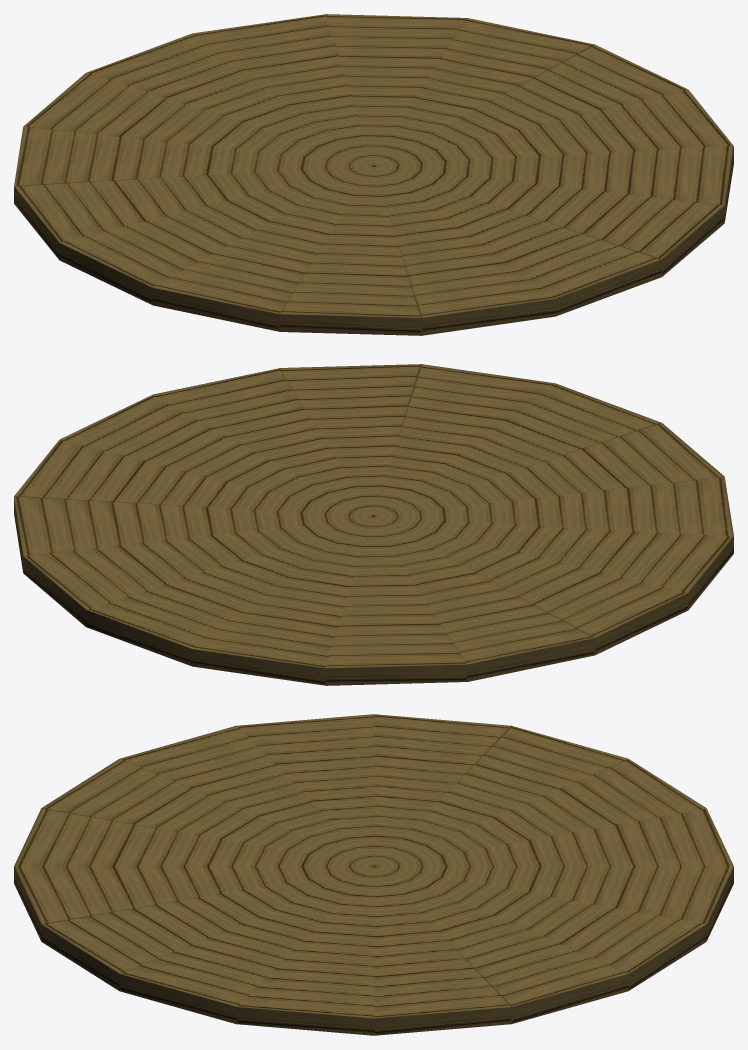
Rendered from Platform.fbx.
3 views of the same model, one above another, from view 1: azimuth 30°, elevation 25°; view 2: azimuth 150°, elevation 25°; view 3: azimuth 270°, elevation 25° (orthographic).
Parts seen in each view (by area): view 1: pasted__pasted__pCylinder1; view 2: pasted__pasted__pCylinder1; view 3: pasted__pasted__pCylinder1.
Part boxes in pixels (<box>): pasted__pasted__pCylinder1: <box>14,14,733,335</box>; pasted__pasted__pCylinder1: <box>14,364,733,685</box>; pasted__pasted__pCylinder1: <box>14,714,733,1035</box>.
Bounding box in the file's own units: 7.99 × 0.2118 × 7.99.
